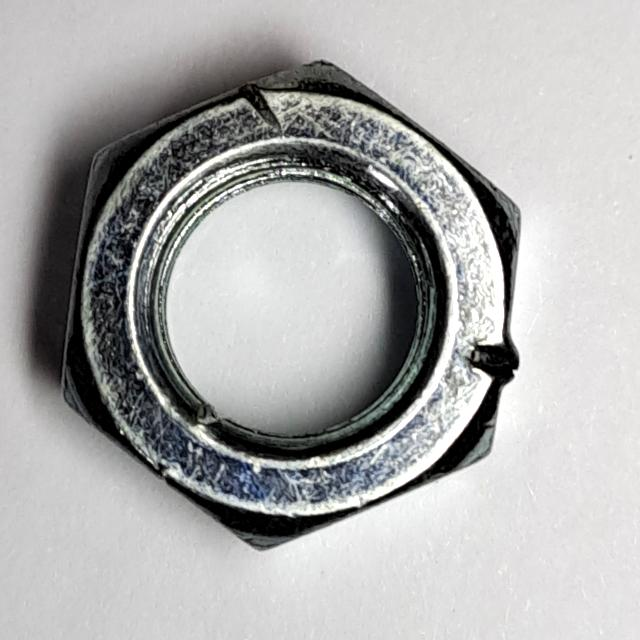Scratches: (51, 47, 533, 569)
